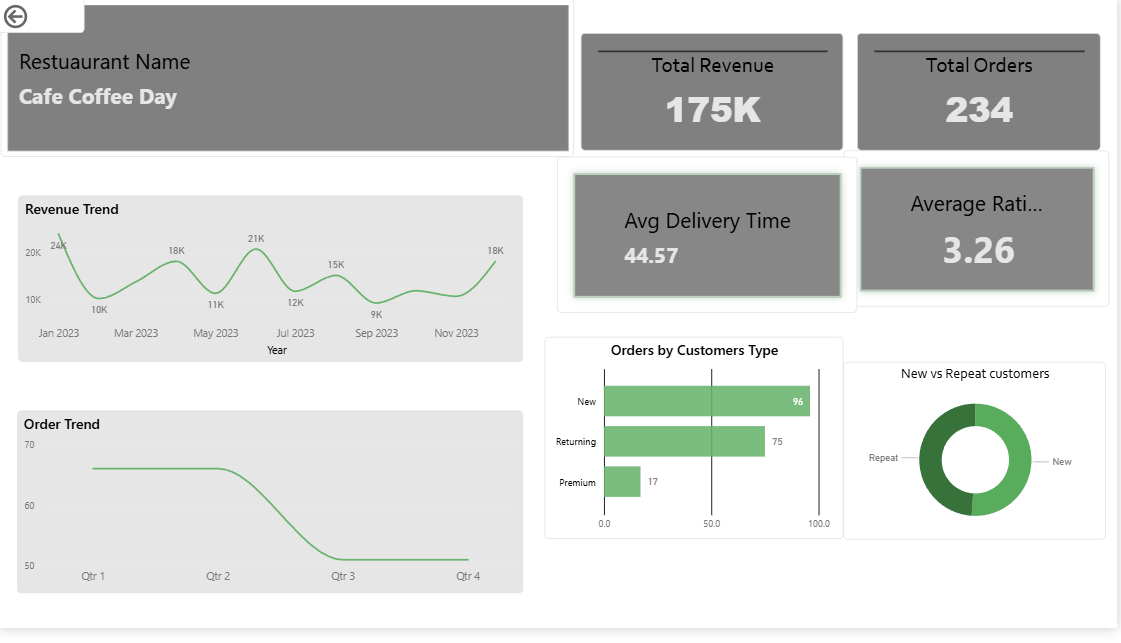

This screenshot's page, from the dashboard's own definition file:
{"tool":"powerbi","page":{"name":"Restuaurants Details","canvas":[1280,720],"ordinal":2},"visuals":[{"type":"cardVisual","title":"avg votes","fields":{"Data":["Orders.Avg Rating"]},"box":[967.1,174.3,304.3,178.6],"z":1000},{"type":"cardVisual","fields":{"Data":["Orders.Avg Delivery Time"]},"box":[640,181.4,342.9,178.6],"z":2000},{"type":"cardVisual","fields":{"Data":["Orders.Total Orders"]},"box":[982.9,40,278.6,134.3],"z":4000},{"type":"cardVisual","fields":{"Data":["Min(Restaurants.name)"]},"box":[3.9,0,655.4,181.2],"z":5000},{"type":"donutChart","title":"New vs Repeat customers","fields":{"Y":["Orders.Total Orders"],"Category":["Customers.RepeatedvsNew"]},"box":[967.1,415.7,300,202.9],"z":8000},{"type":"actionButton","box":[0,0,100,40],"z":9000},{"type":"barChart","title":"Orders by Customers Type","fields":{"Y":["Orders.Total Orders"],"Category":["Customers.CustomerType"]},"box":[625.7,387.1,341.4,231.4],"z":10000},{"type":"lineChart","title":"Revenue Trend ","fields":{"Y":["Orders.Total Revenue"],"Category":["DateTable.Date.Variation.Date Hierarchy.Year","DateTable.Date.Variation.Date Hierarchy.Quarter","DateTable.Date.Variation.Date Hierarchy.Month"]},"box":[24.3,225.7,577.1,190],"z":10001},{"type":"lineChart","title":"Order Trend","fields":{"Category":["DateTable.Date.Variation.Date Hierarchy.Year","DateTable.Date.Variation.Date Hierarchy.Quarter","DateTable.Date.Variation.Date Hierarchy.Month"],"Y":["Orders.Total Orders"]},"box":[22.9,471.4,578.6,208.6],"z":10002},{"type":"cardVisual","fields":{"Data":["Orders.Total Revenue"]},"box":[667.1,40,300,134.3],"z":10003}]}

Visuals, with their boxes in screenshot pixels (x1, y1, x2, y2), scaled from the page's 1280x720 canvas onto the 1121x643 screenshot:
"avg votes" cardVisual: [847,156,1113,315]
cardVisual - Orders.Avg Delivery Time: [560,162,861,322]
cardVisual - Orders.Total Orders: [861,36,1105,156]
cardVisual - Min(Restaurants.name): [3,0,577,162]
"New vs Repeat customers" donutChart: [847,371,1110,552]
actionButton: [0,0,88,36]
"Orders by Customers Type" barChart: [548,346,847,552]
"Revenue Trend " lineChart: [21,202,527,371]
"Order Trend" lineChart: [20,421,527,607]
cardVisual - Orders.Total Revenue: [584,36,847,156]
